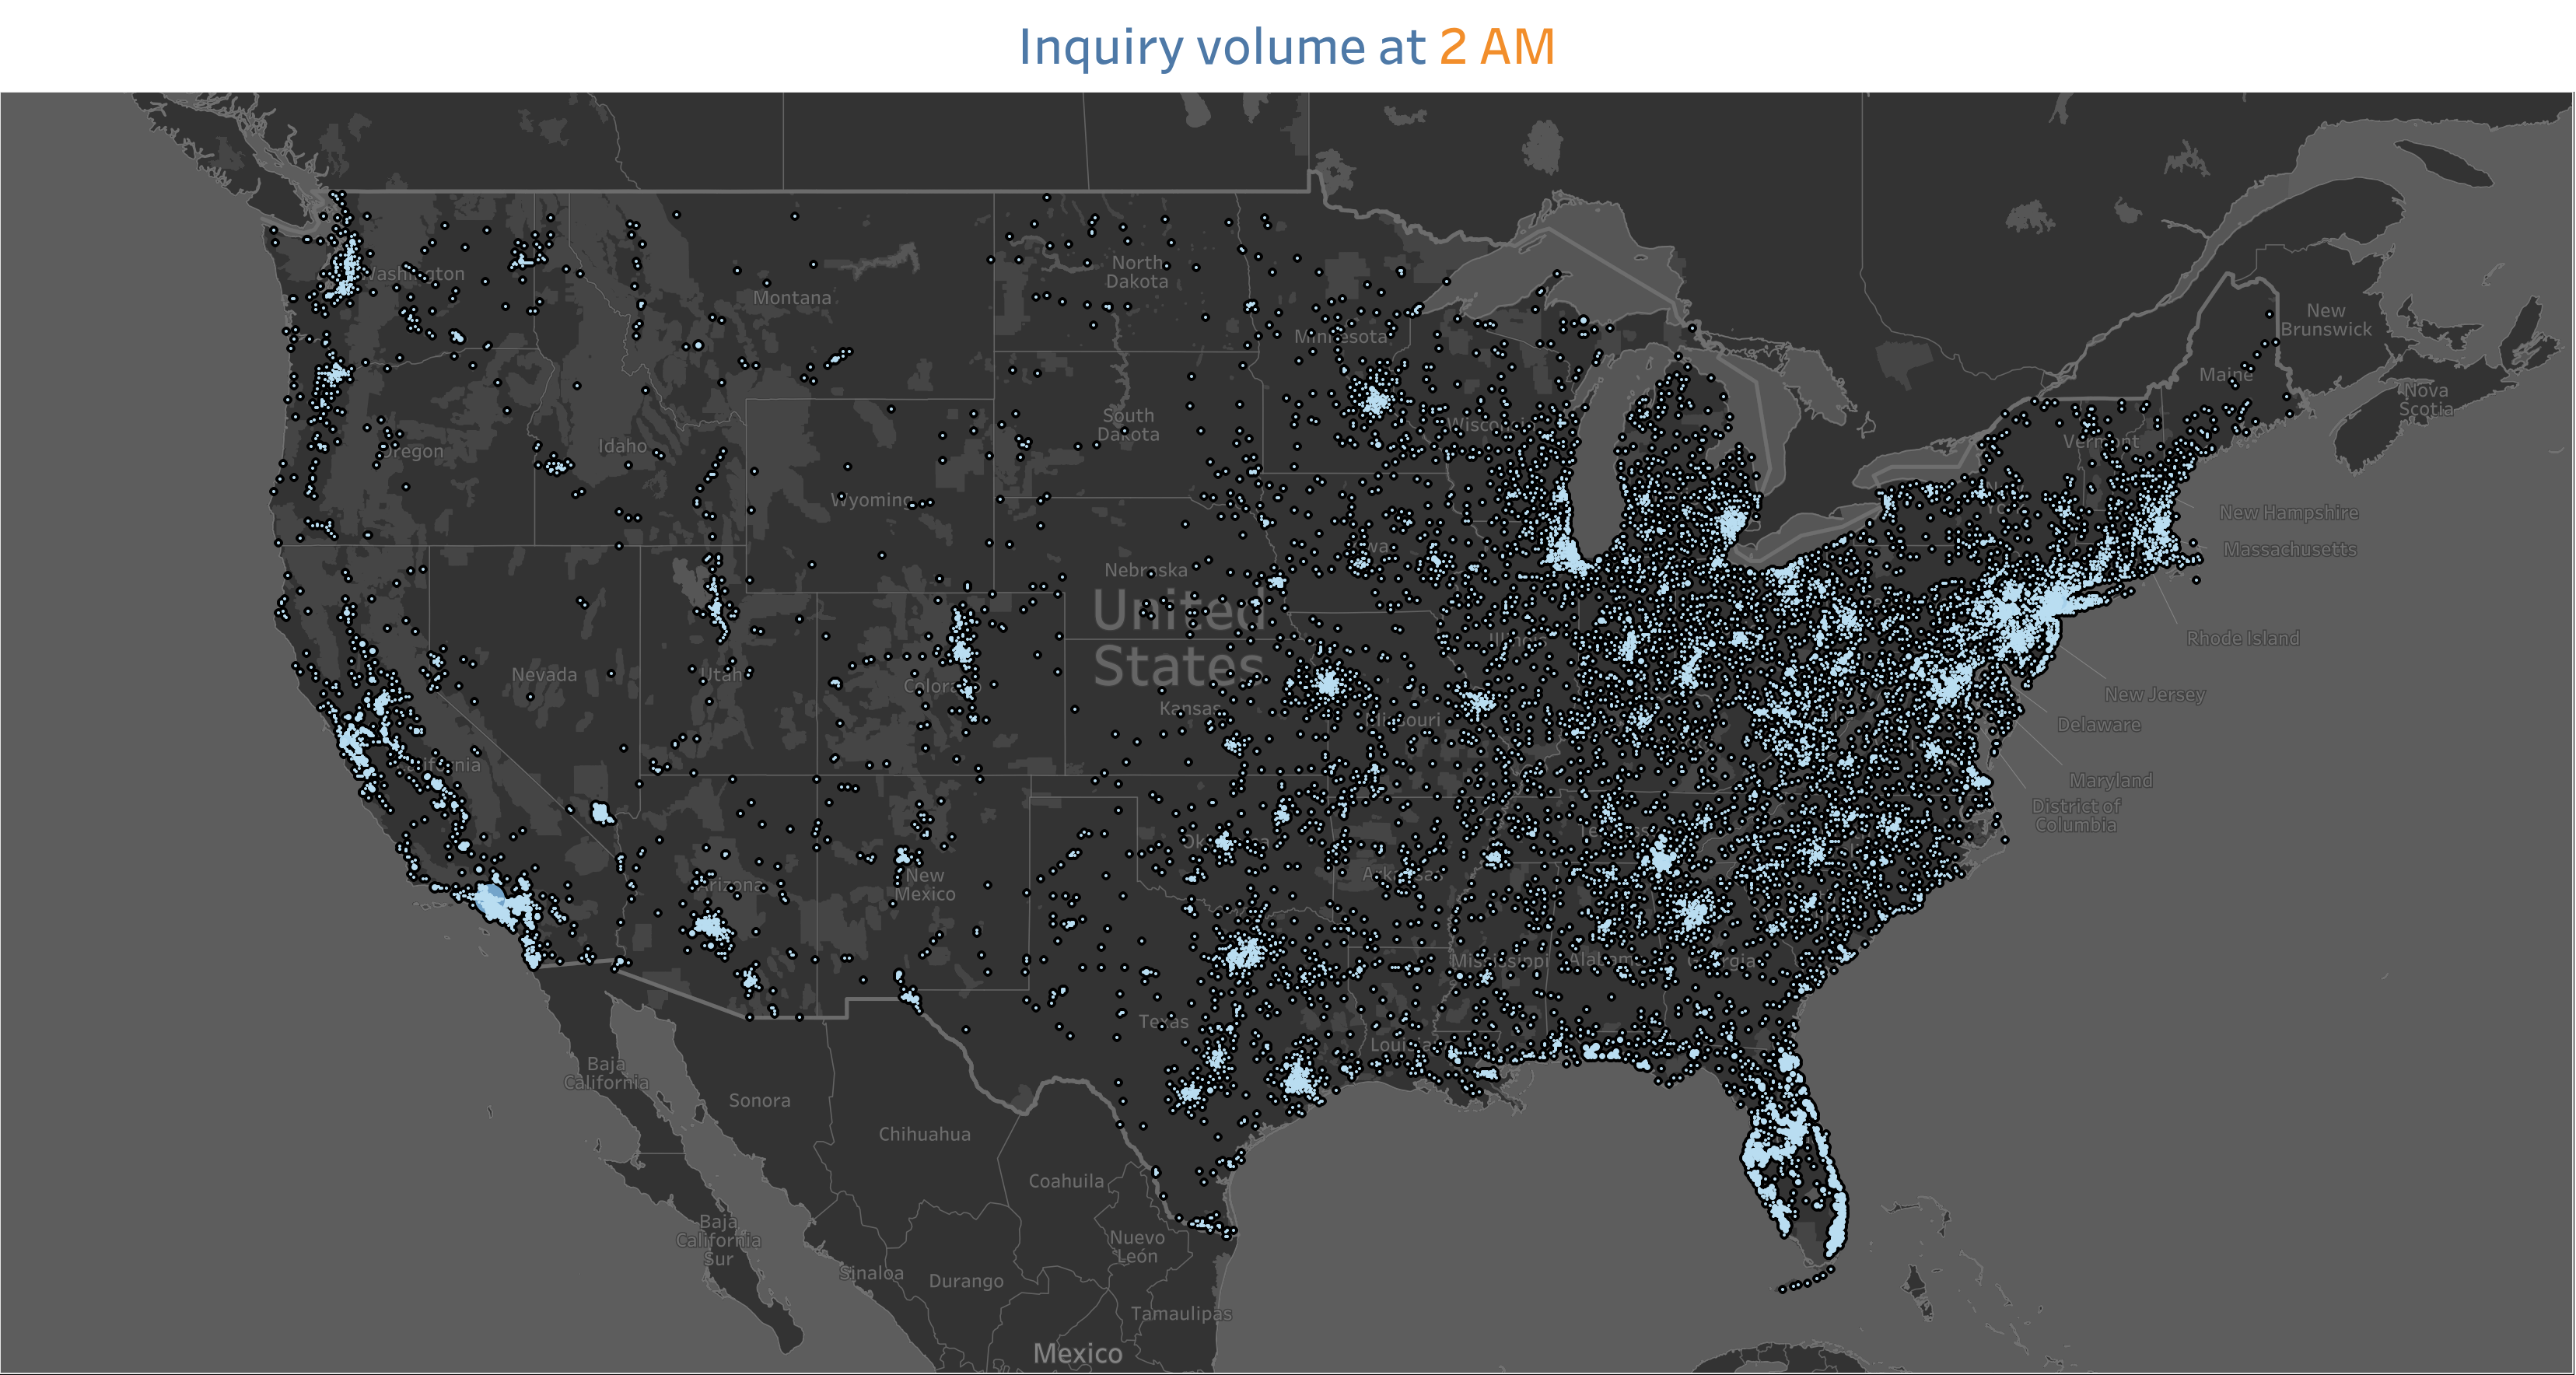

The dashboard page shown, as its layout file describes it:
{"tool":"tableau","page":{"name":"Dashboard 1","canvas":[1000,1000],"units":"permille","ordinal":0},"visuals":[{"type":"worksheet","title":"Sheet 1","mark":"Automatic","box":[4.7,8.8,990.6,982.3]},{"type":"currpage","title":"Sheet 1","box":[883,30.9,87.8,105]}]}

Visuals, with their boxes on the dashboard's canvas, which has no fixed pixel size, in thousandths of its width and height (x1, y1, x2, y2). These are canvas units, not pixel positions in the 2576x1375 screenshot, which may show the page scaled, cropped or inside an application window:
"Sheet 1" worksheet: select_region(5, 9, 995, 991)
"Sheet 1" currpage: select_region(883, 31, 971, 136)
